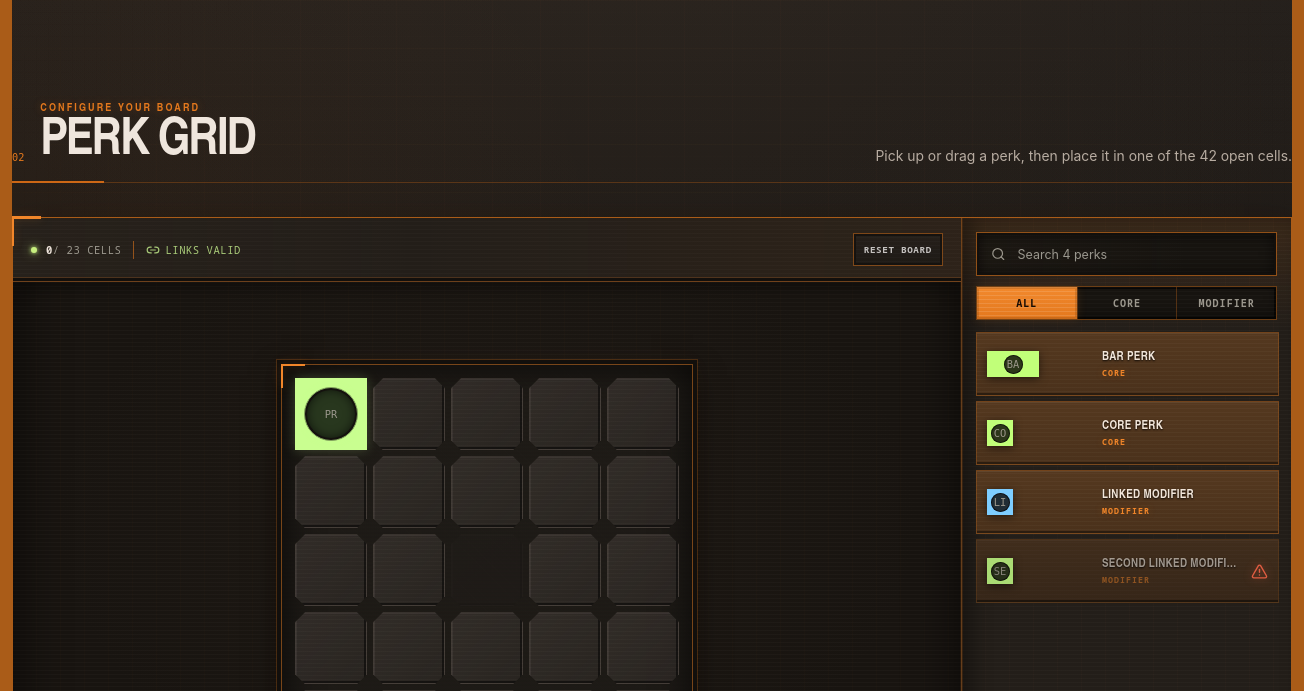
PerkWorkbench grid presentation › omits idle library chrome while keeping active placement guidance and controls
The image size is (1304, 691).
What coordinates should you click on to do the following:
click the button with aria-label "Pick up Bar Perk for placement"
I would click on:
 (1128, 364)
Its box is [976,332,1279,396].
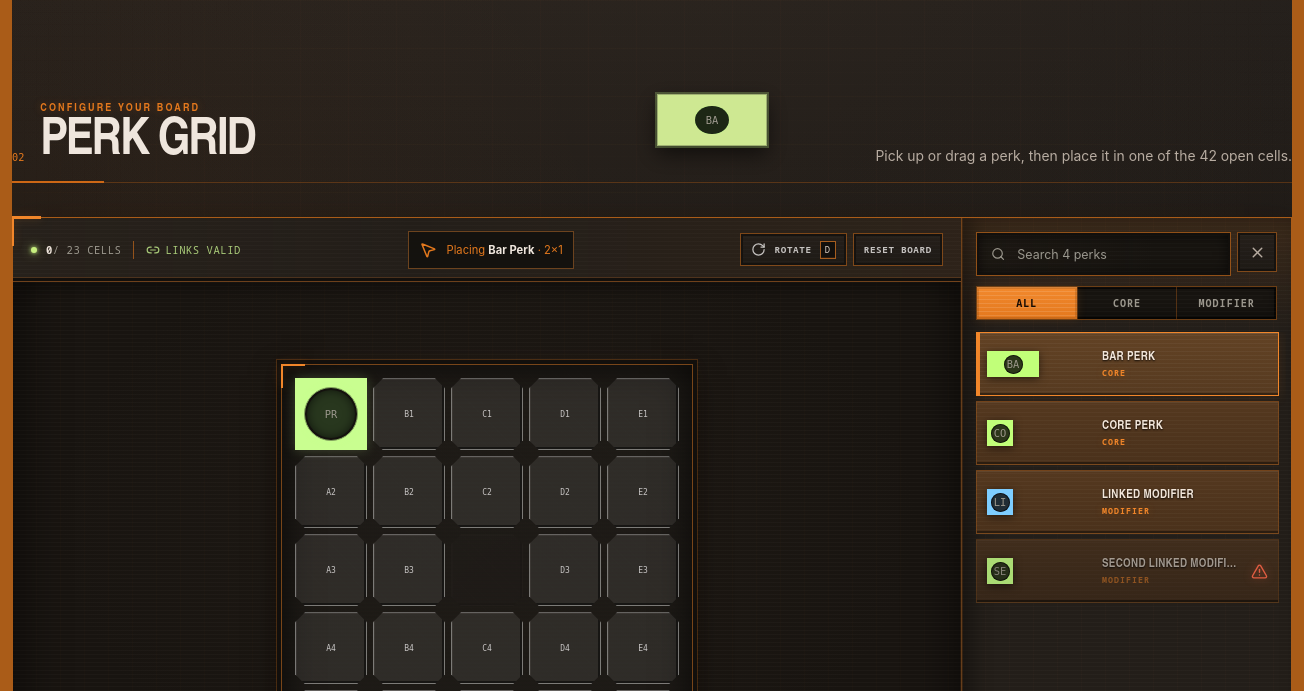
Expected: the element showing "Placing Bar Perk · 2×1" is shown, [408,231,574,269]
Expected: the button named "Cancel perk placement" is shown, [1237,232,1277,272]
